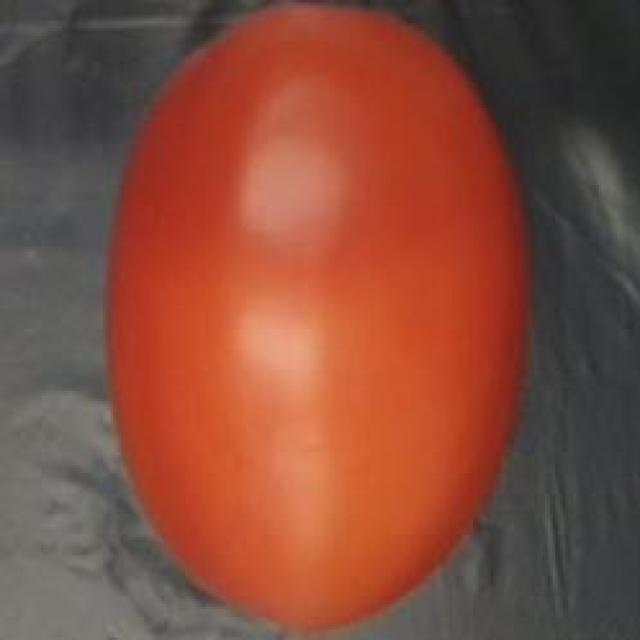ripe tomato: (92, 0, 548, 640)
